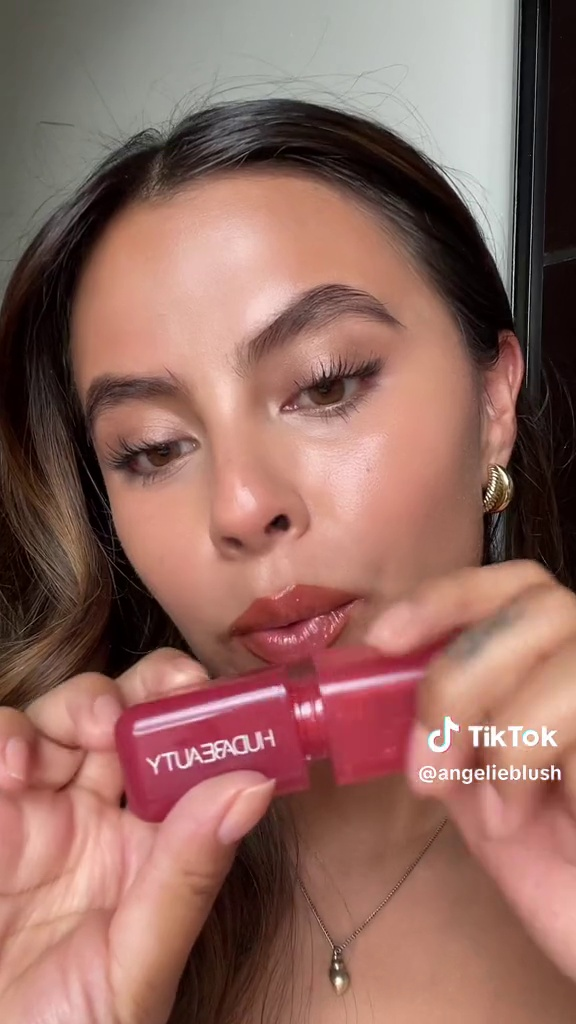train' :'yolo_data/train/images',: (102, 626, 490, 829)
